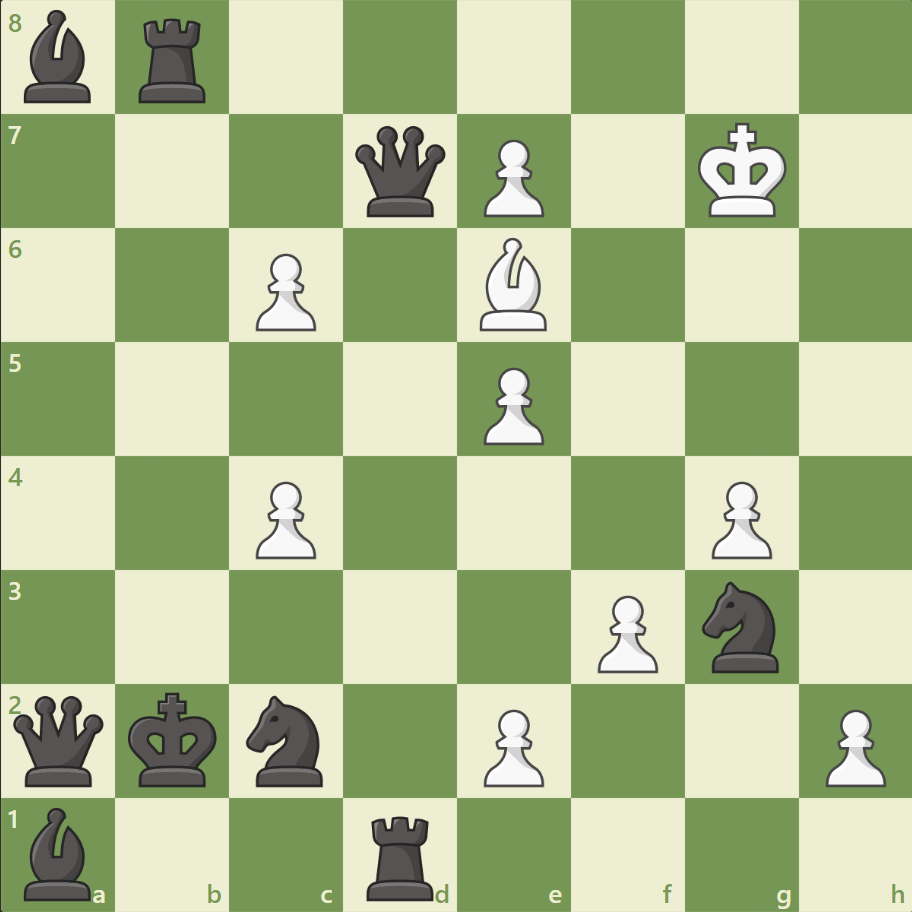B: (471, 233, 555, 336)
K: (692, 117, 792, 225)
P: (474, 132, 549, 223), (247, 246, 322, 337), (474, 359, 549, 450), (247, 473, 322, 564), (701, 473, 776, 564), (474, 700, 549, 791), (588, 586, 662, 677), (815, 700, 889, 791)
b: (17, 6, 101, 109), (17, 801, 101, 904)
k: (124, 685, 224, 793)
n: (238, 688, 335, 791), (692, 575, 789, 677)
q: (351, 122, 450, 222), (10, 690, 109, 789)
r: (360, 806, 442, 904), (133, 12, 215, 109)
